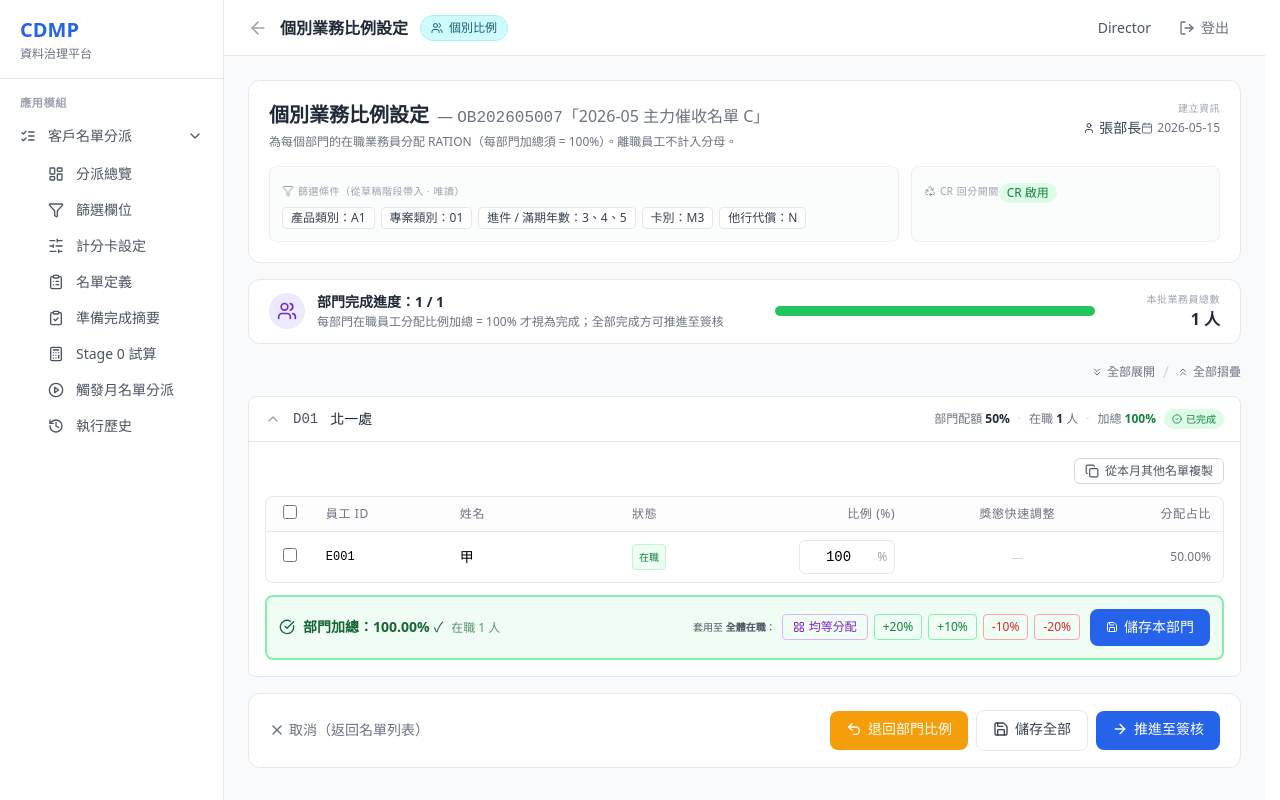
Test case: PersonnelRatioConfigPage — F084 v2.0 Auto-Advance（FE） › TC-F084-FE-011：手動推進 422 STAGE_ADVANCE_PRECONDITION_FAILED → 顯示錯誤、不 redirect
The width and height of the screenshot is (1280, 800).
Click the button with test id "btn-advance-approval". click: [1158, 730]
box: [1096,710,1220,750]
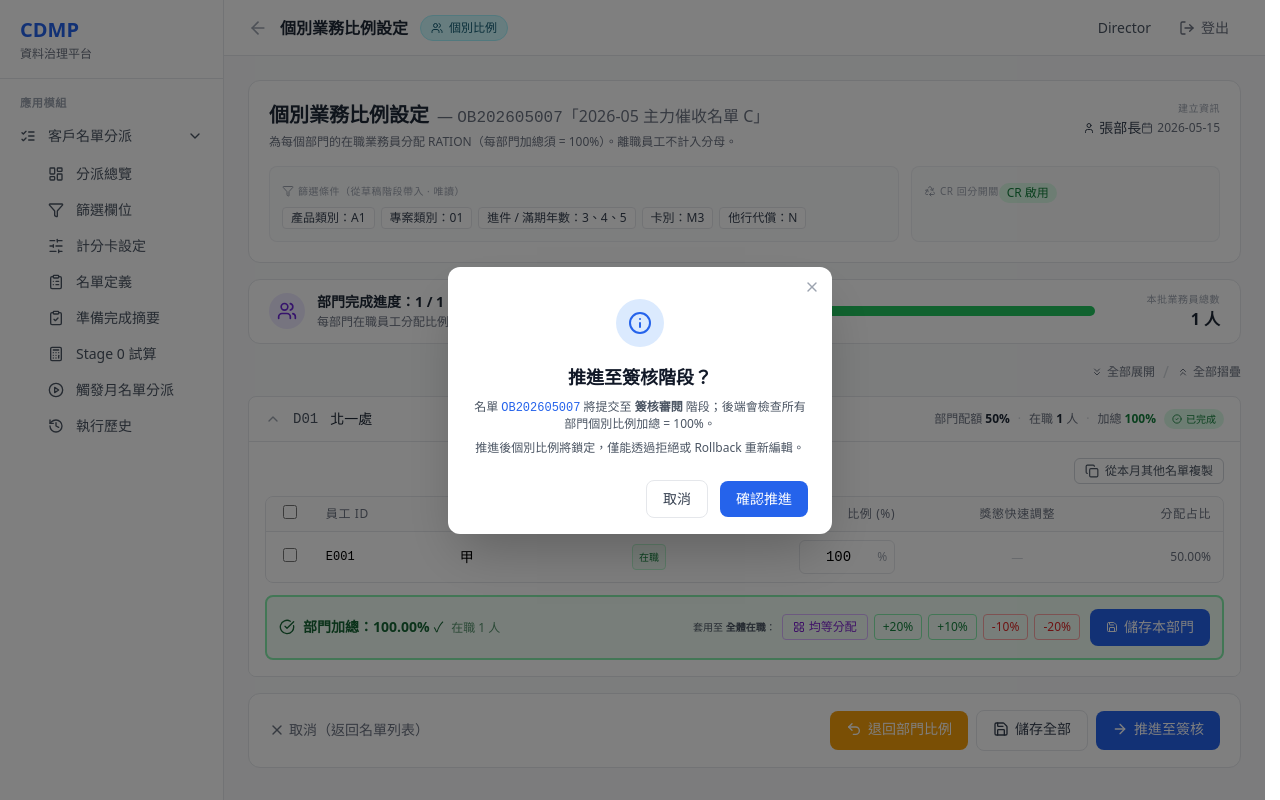
Result: the element with test id "confirm-advance-modal" is shown
Click the button with test id "btn-confirm-advance". click: [764, 498]
box: [720,480,808,516]
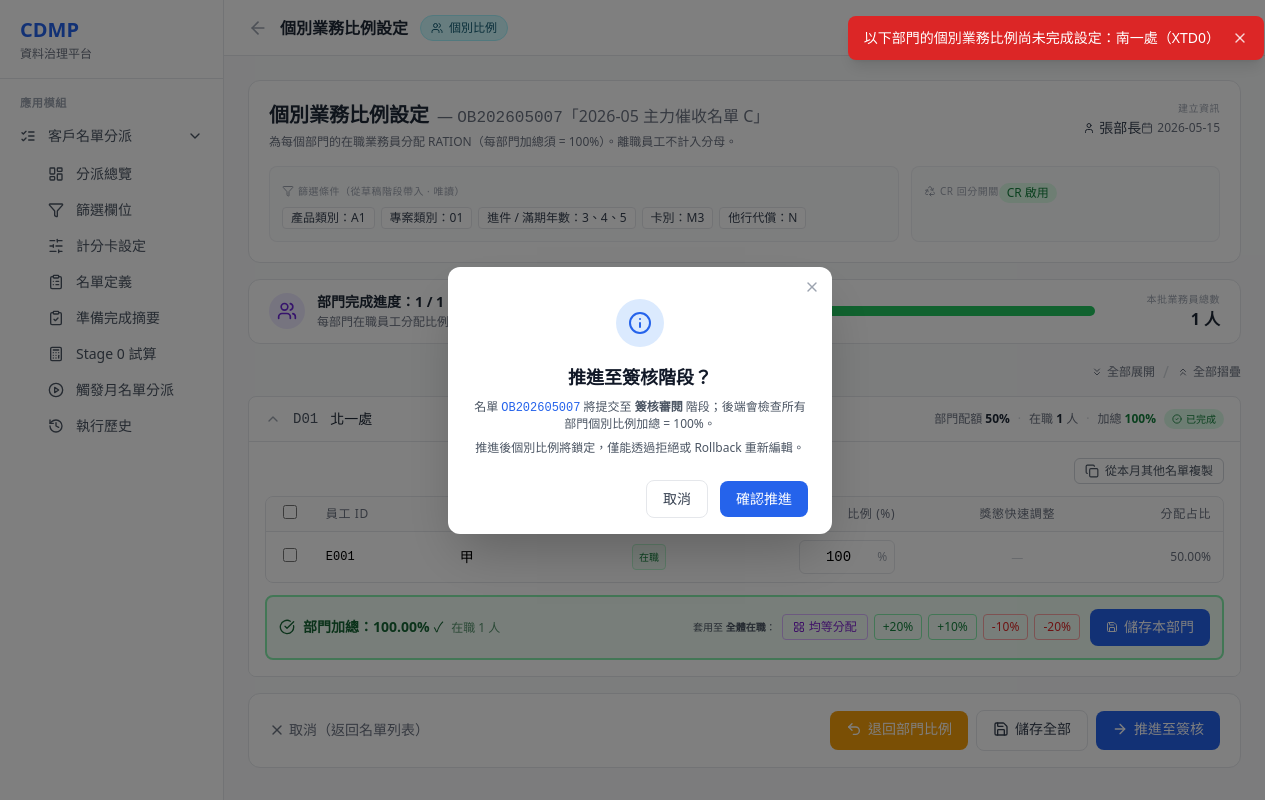
Result: the text "以下部門的個別業務比例尚未完成設定：南一處（XTD0）" is shown at [864,28,1220,48]
